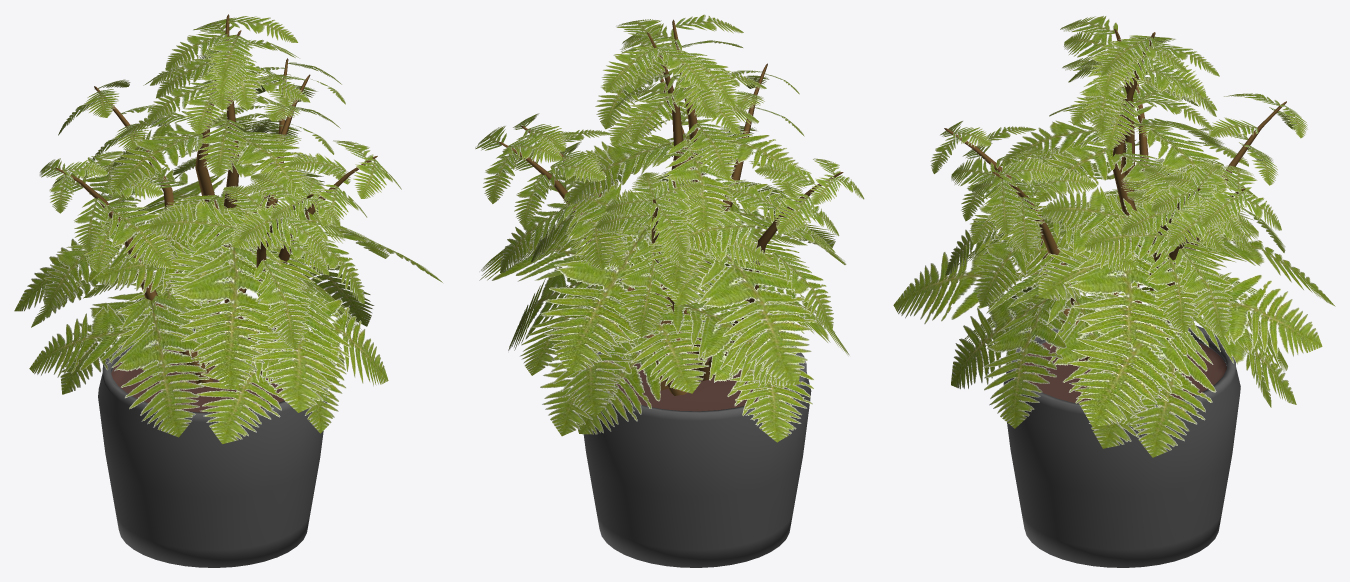
File: sc_potted_plant.glb
3 renders of one model, left to right at view 1: azimuth 30°, elevation 25°; view 2: azimuth 150°, elevation 25°; view 3: azimuth 270°, elevation 25°, orthographic. The views are drawn at different scales.
Parts seen in each view (by area): view 1: 10_Leaves, 12_Leaves, 07_PlantPot, 09_Branches, 11_Branches, 08_Dirt; view 2: 12_Leaves, 10_Leaves, 07_PlantPot, 08_Dirt, 11_Branches, 09_Branches; view 3: 10_Leaves, 12_Leaves, 07_PlantPot, 08_Dirt, 11_Branches, 09_Branches.
Part boxes in pixels (<box>): 10_Leaves: <box>14,34,401,437</box>; 12_Leaves: <box>31,16,442,443</box>; 07_PlantPot: <box>98,328,327,567</box>; 09_Branches: <box>55,30,377,387</box>; 11_Branches: <box>94,14,313,379</box>; 08_Dirt: <box>111,349,311,412</box>; 12_Leaves: <box>475,19,846,437</box>; 10_Leaves: <box>495,14,864,442</box>; 07_PlantPot: <box>583,321,811,567</box>; 08_Dirt: <box>605,352,785,411</box>; 11_Branches: <box>498,32,767,390</box>; 09_Branches: <box>520,19,843,395</box>; 10_Leaves: <box>893,15,1322,448</box>; 12_Leaves: <box>930,35,1335,457</box>; 07_PlantPot: <box>1003,317,1240,567</box>; 08_Dirt: <box>1023,336,1226,403</box>; 11_Branches: <box>944,32,1286,375</box>; 09_Branches: <box>992,29,1200,334</box>.
Size of the model in its own units: 0.6185 by 0.768 by 0.6026.
4 materials, 1 textured.
